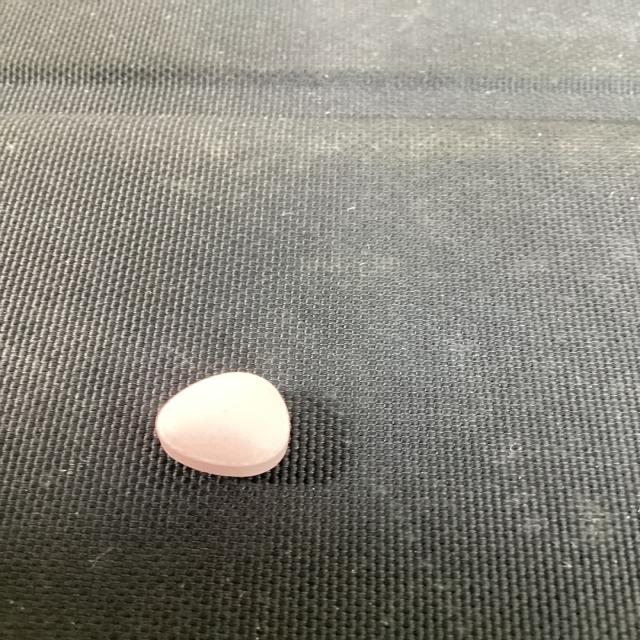-: (137, 359, 318, 489)
